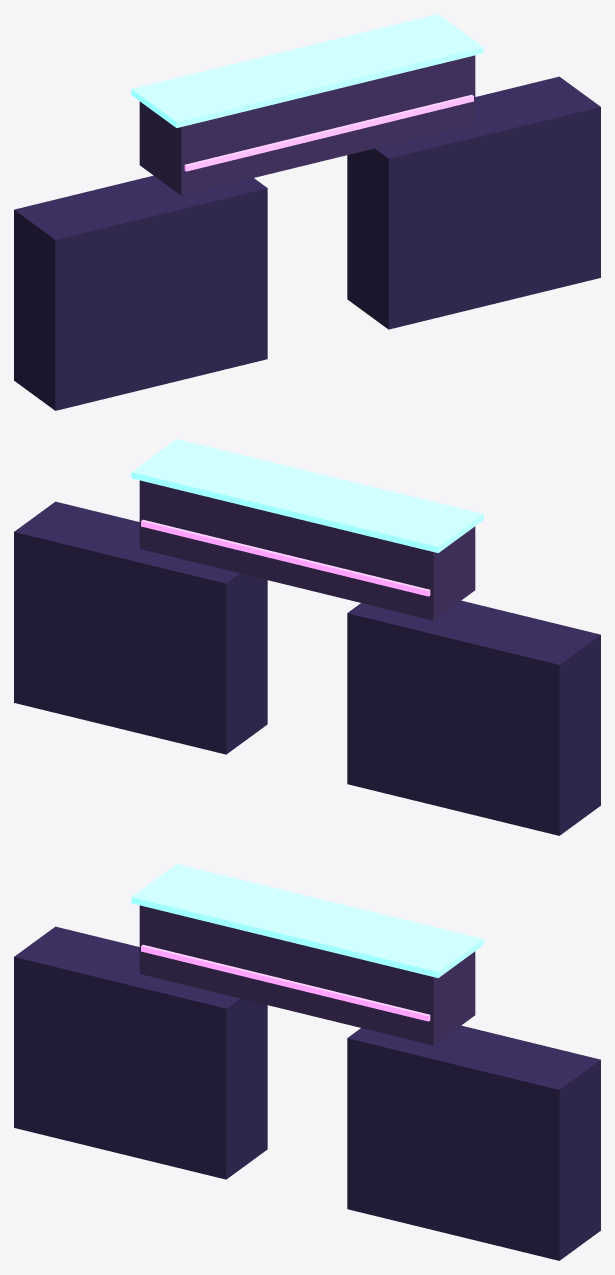
Rendered from 07_skybridge_link_short.glb.
The picture shows the model from 3 angles, top to bottom: view 1: azimuth 30°, elevation 25°; view 2: azimuth 150°, elevation 25°; view 3: azimuth 330°, elevation 25°; orthographic projection.
Visible parts, largest first — view 1: tower_left_0, tower_right_1, bridge_body_2, roof_trim_3, window_strip_5; view 2: tower_left_0, tower_right_1, bridge_body_2, roof_trim_3, window_strip_4; view 3: tower_right_1, tower_left_0, bridge_body_2, roof_trim_3, window_strip_5.
Boxes of the visible parts, <box> form: tower_left_0: <box>14,175,267,410</box>; tower_right_1: <box>347,76,600,329</box>; bridge_body_2: <box>139,55,475,195</box>; roof_trim_3: <box>131,14,483,127</box>; window_strip_5: <box>184,94,473,171</box>; tower_left_0: <box>347,600,600,835</box>; tower_right_1: <box>14,501,267,754</box>; bridge_body_2: <box>139,480,475,620</box>; roof_trim_3: <box>131,439,483,552</box>; window_strip_4: <box>141,519,430,596</box>; tower_right_1: <box>347,1025,600,1260</box>; tower_left_0: <box>14,926,267,1179</box>; bridge_body_2: <box>139,905,475,1045</box>; roof_trim_3: <box>131,864,483,977</box>; window_strip_5: <box>141,944,430,1021</box>.
Bounding box in the file's own units: 16.7 × 7.64 × 2.4.
